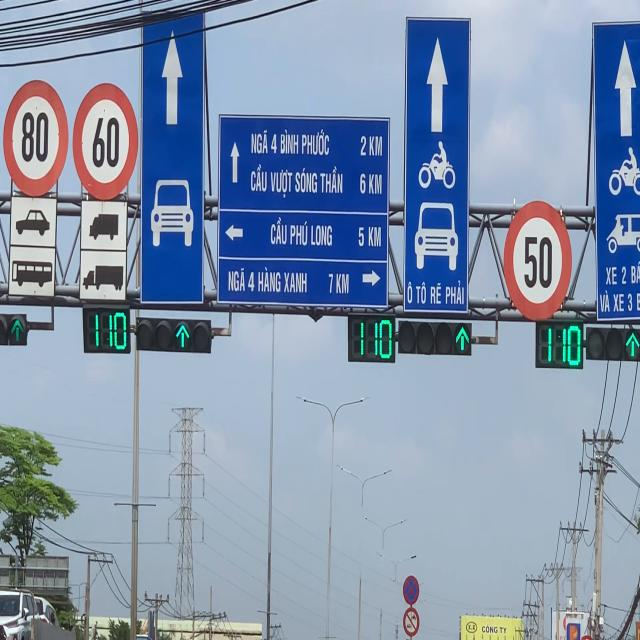Cam dung va do: (402, 575, 420, 605)
Toc do toi da: (503, 199, 572, 321), (72, 82, 139, 201), (3, 79, 69, 198)
